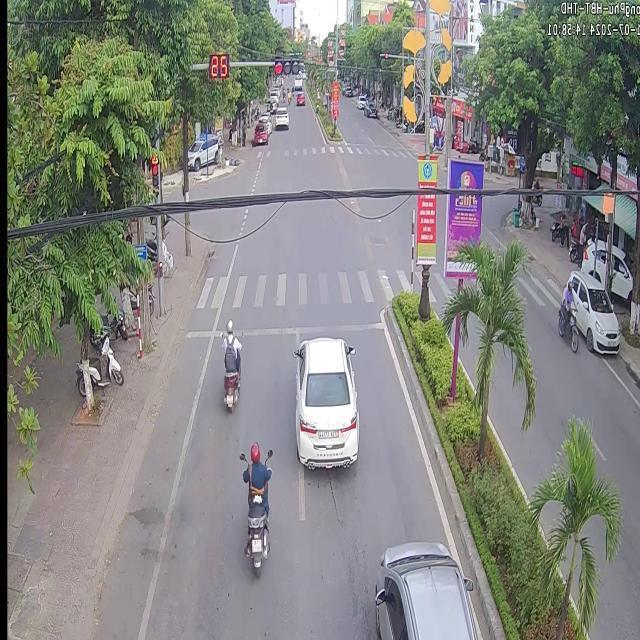car: (375, 542, 474, 631), (292, 336, 357, 467)
motobike: (240, 441, 272, 574), (220, 315, 241, 410)
red_light: (270, 51, 301, 76), (148, 154, 158, 187), (152, 136, 158, 147)
stop_line: (182, 321, 383, 336)
